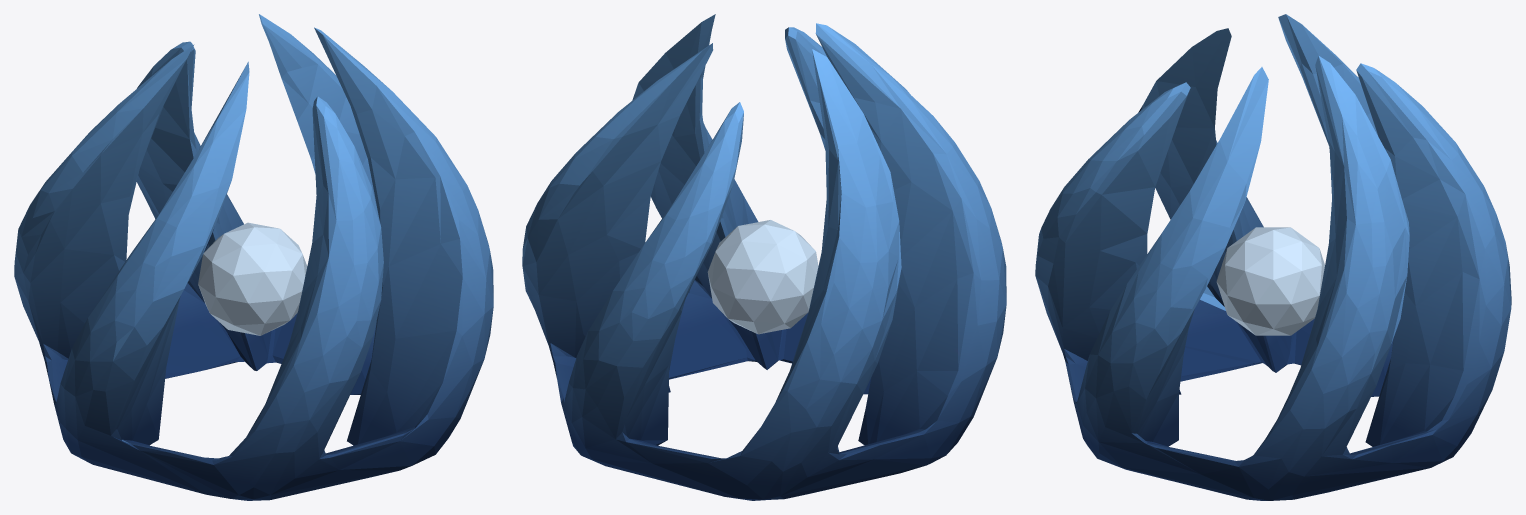
The model's file is abandonment.fbx.
3 views of the same model, side by side, from view 1: azimuth 30°, elevation 25°; view 2: azimuth 150°, elevation 25°; view 3: azimuth 270°, elevation 25° (orthographic).
Parts seen in each view (by area): view 1: Cone; view 2: Cone; view 3: Cone.
Part boxes in pixels (x1,y1,x2,y2): Cone: (14, 14, 493, 500); Cone: (522, 14, 1006, 500); Cone: (1035, 14, 1511, 500).
Bounding box in the file's own units: 494 × 440 × 502.
1 material, 1 textured.
